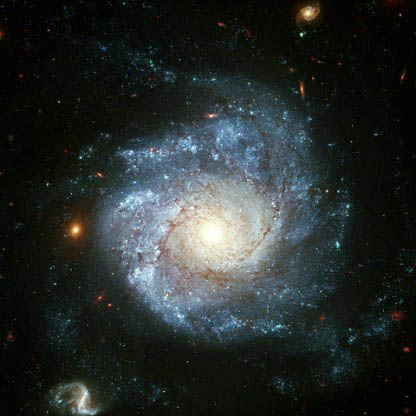NGC 1309: (23, 4, 374, 415)
